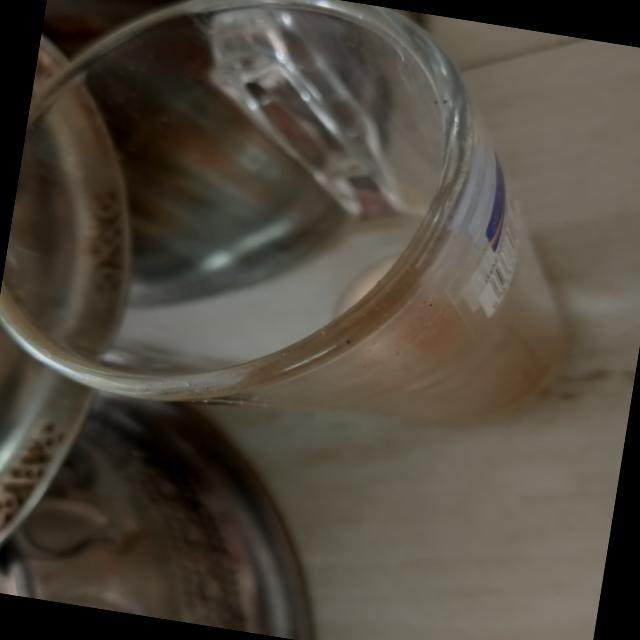glass-VX4N: (0, 0, 611, 469)
